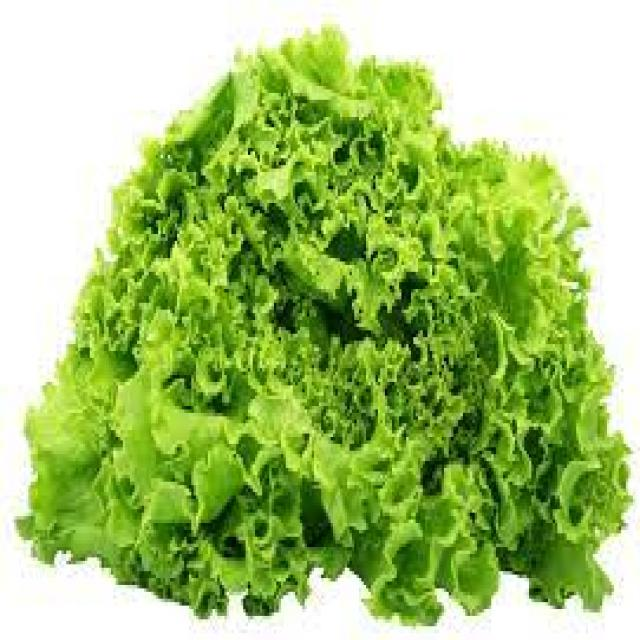Lettuce: (11, 15, 638, 630)
